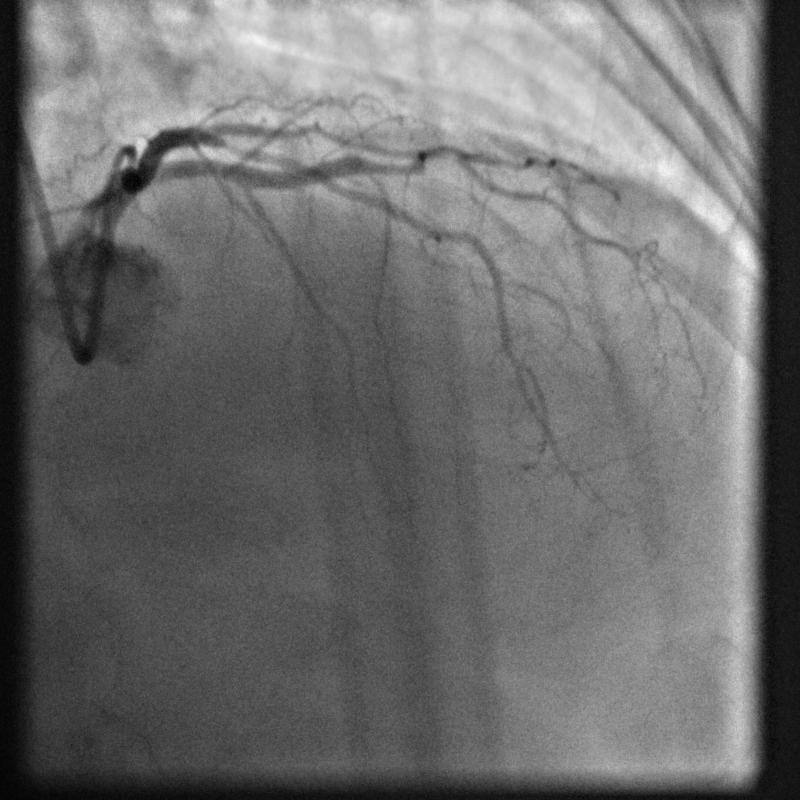Stenosis: (209, 133, 300, 167)
